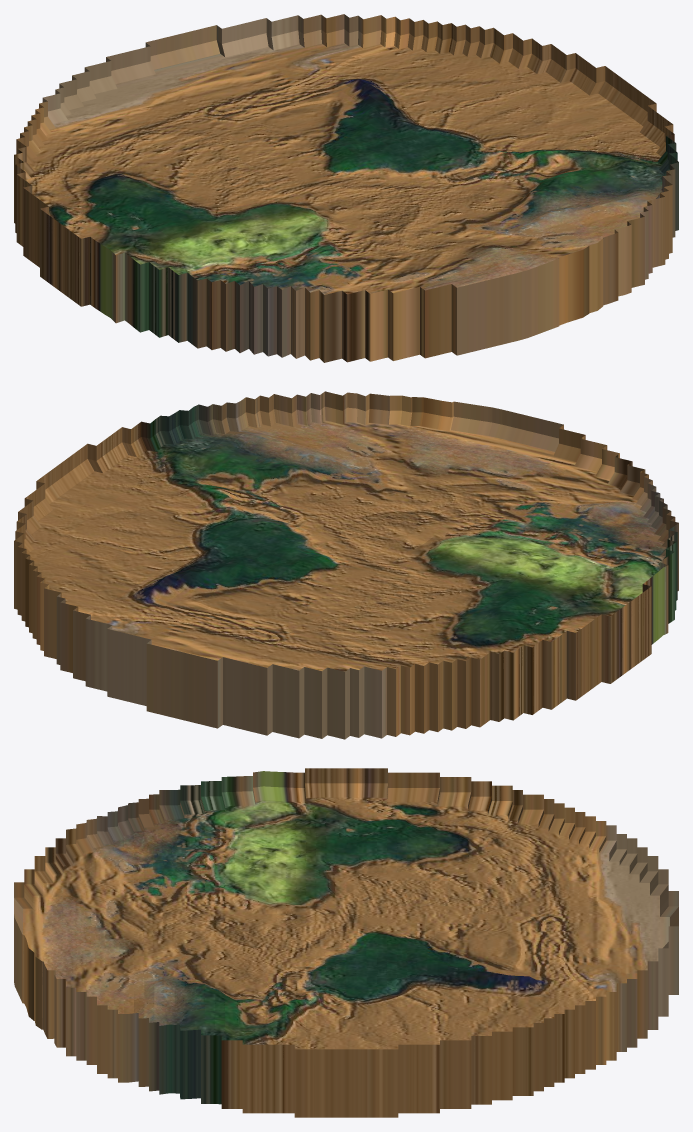
File: flatearth_rand.fbx
3 renders of one model, top to bottom at view 1: azimuth 30°, elevation 25°; view 2: azimuth 150°, elevation 25°; view 3: azimuth 270°, elevation 25°, orthographic.
Visible parts, largest first — view 1: FlatEarth; view 2: FlatEarth; view 3: FlatEarth.
Part boxes in pixels (<box>): FlatEarth: <box>14,14,678,362</box>; FlatEarth: <box>14,391,678,739</box>; FlatEarth: <box>14,768,678,1117</box>.
Bounding box in the file's own units: 411 × 48.75 × 411.
1 material, 1 textured.
